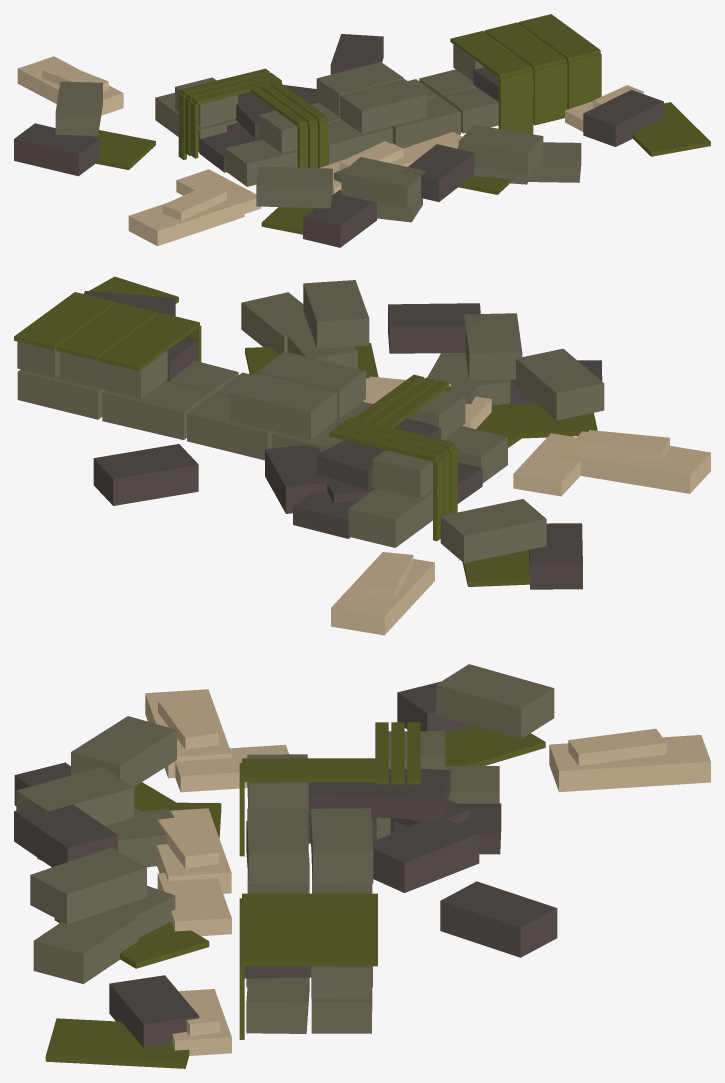
Rendered from SM_SacosRemate_v4_Red_e2_MuyDanado_LOD0.fbx.
3 renders of one model, top to bottom at view 1: azimuth 30°, elevation 25°; view 2: azimuth 150°, elevation 25°; view 3: azimuth 270°, elevation 25°, orthographic. The views are drawn at different scales.
Parts seen in each view (by area): view 1: SM_sacos_piezas_v38_LOD0; view 2: SM_sacos_piezas_v38_LOD0; view 3: SM_sacos_piezas_v38_LOD0.
Boxes of the visible parts, left/top/right/bottom form: SM_sacos_piezas_v38_LOD0: left=14, top=14, right=710, bottom=247; SM_sacos_piezas_v38_LOD0: left=14, top=276, right=710, bottom=635; SM_sacos_piezas_v38_LOD0: left=14, top=664, right=710, bottom=1068.
Size of the model in its own units: 6.82 by 0.7939 by 5.44.
